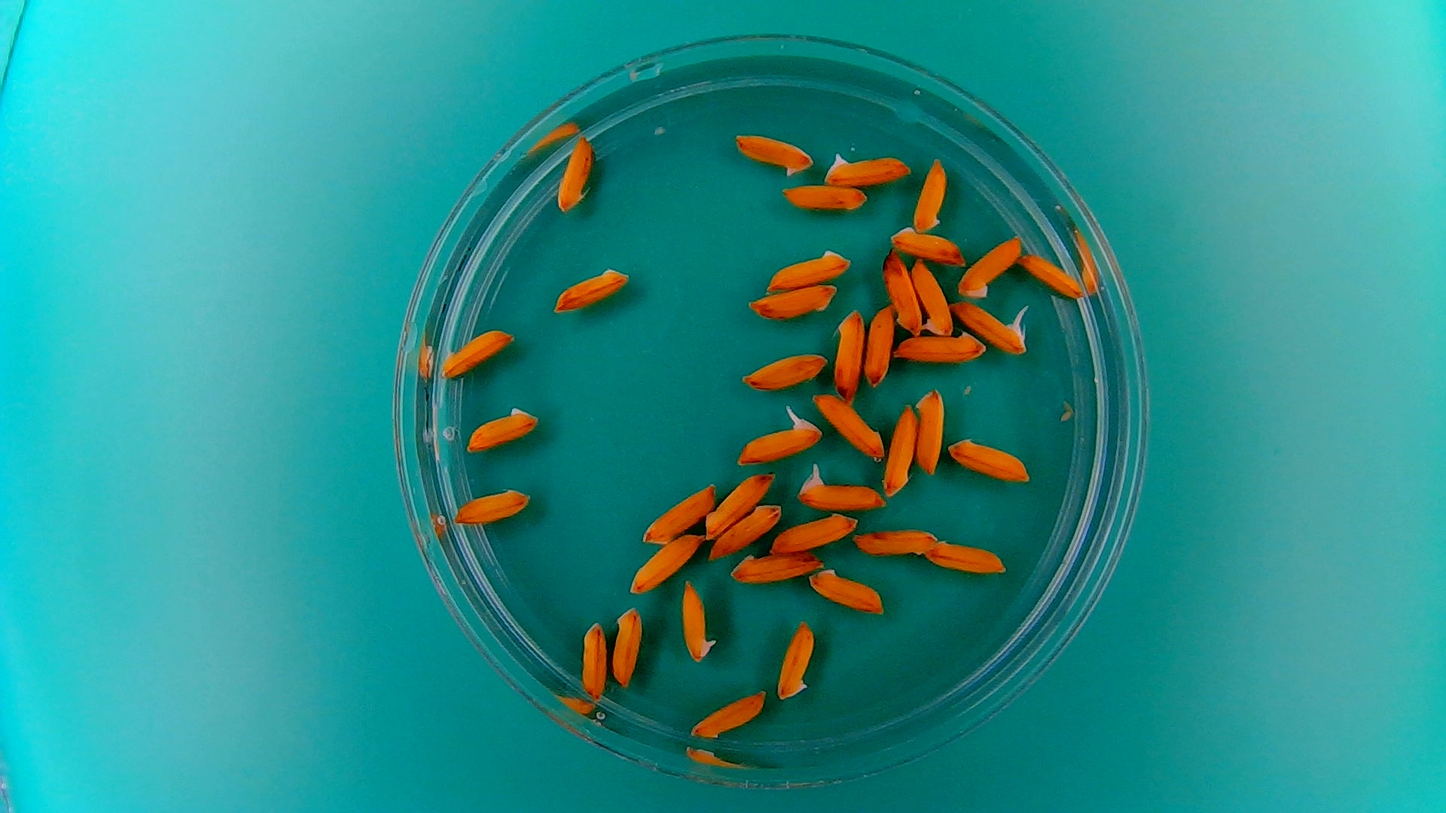no: (639, 479, 720, 547), (700, 467, 775, 540), (810, 390, 886, 460), (626, 531, 703, 595), (728, 128, 816, 181), (956, 233, 1024, 300), (461, 400, 543, 455), (945, 434, 1033, 485), (438, 323, 517, 379), (550, 262, 633, 315), (806, 564, 889, 617), (709, 501, 783, 559), (688, 687, 767, 741), (767, 510, 859, 556), (766, 245, 852, 292), (743, 282, 839, 323), (737, 349, 829, 391), (728, 547, 825, 586), (881, 245, 922, 335), (448, 483, 532, 526), (554, 131, 596, 215), (883, 400, 919, 498), (775, 617, 816, 702), (886, 224, 968, 265), (1017, 250, 1084, 300), (924, 537, 1009, 576), (897, 330, 988, 365), (831, 306, 865, 399), (779, 181, 869, 215), (853, 524, 938, 559), (913, 386, 946, 476), (862, 301, 896, 388), (610, 603, 644, 688), (910, 155, 947, 233), (577, 617, 608, 700)
yes: (729, 408, 825, 467), (947, 297, 1031, 357), (793, 463, 888, 512), (822, 148, 913, 187), (910, 256, 953, 338), (679, 577, 718, 663)
